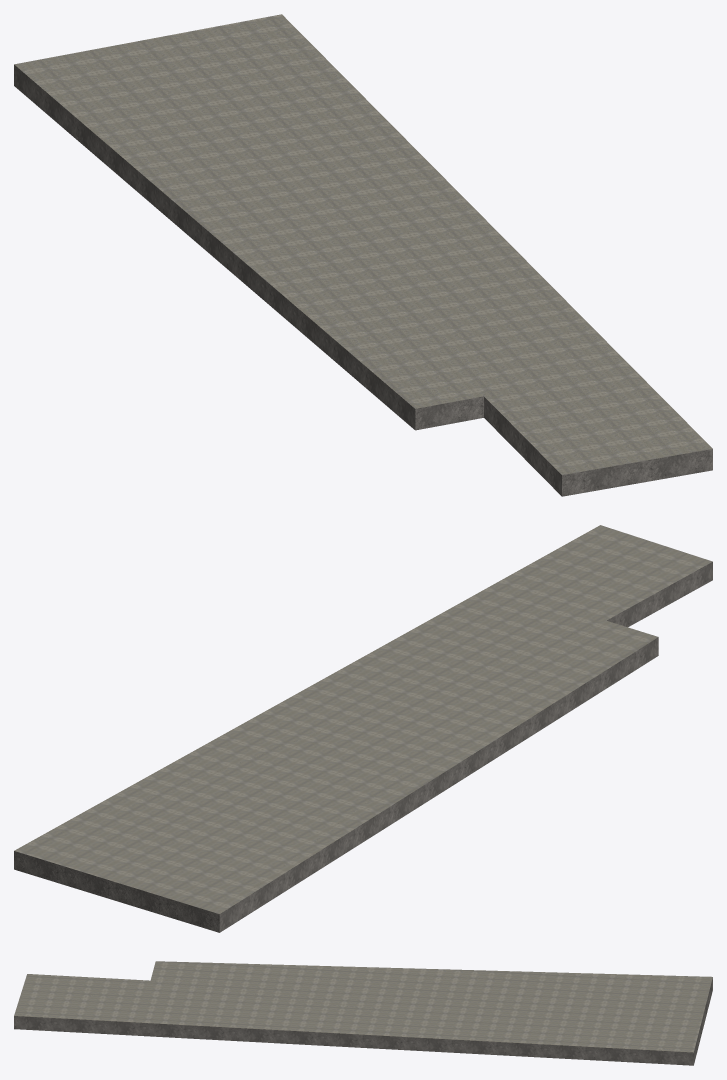
3 views of the same model, one above another, from view 1: azimuth 30°, elevation 25°; view 2: azimuth 150°, elevation 25°; view 3: azimuth 270°, elevation 25° (orthographic). The views are drawn at different scales.
Visible parts, largest first — view 1: Landing wearing course, Exposed deck edge; view 2: Landing wearing course, Exposed deck edge; view 3: Landing wearing course, Exposed deck edge.
Boxes of the visible parts, box(x1,y1,x2,y2) form: Landing wearing course: box(14, 14, 712, 474); Exposed deck edge: box(14, 64, 712, 496); Landing wearing course: box(14, 525, 712, 913); Exposed deck edge: box(14, 562, 712, 932); Landing wearing course: box(14, 961, 712, 1052); Exposed deck edge: box(14, 978, 712, 1065).
Size of the model in its own units: 10.67 by 0.72 by 34.51.
Materials: 3 (3 with a texture image).
